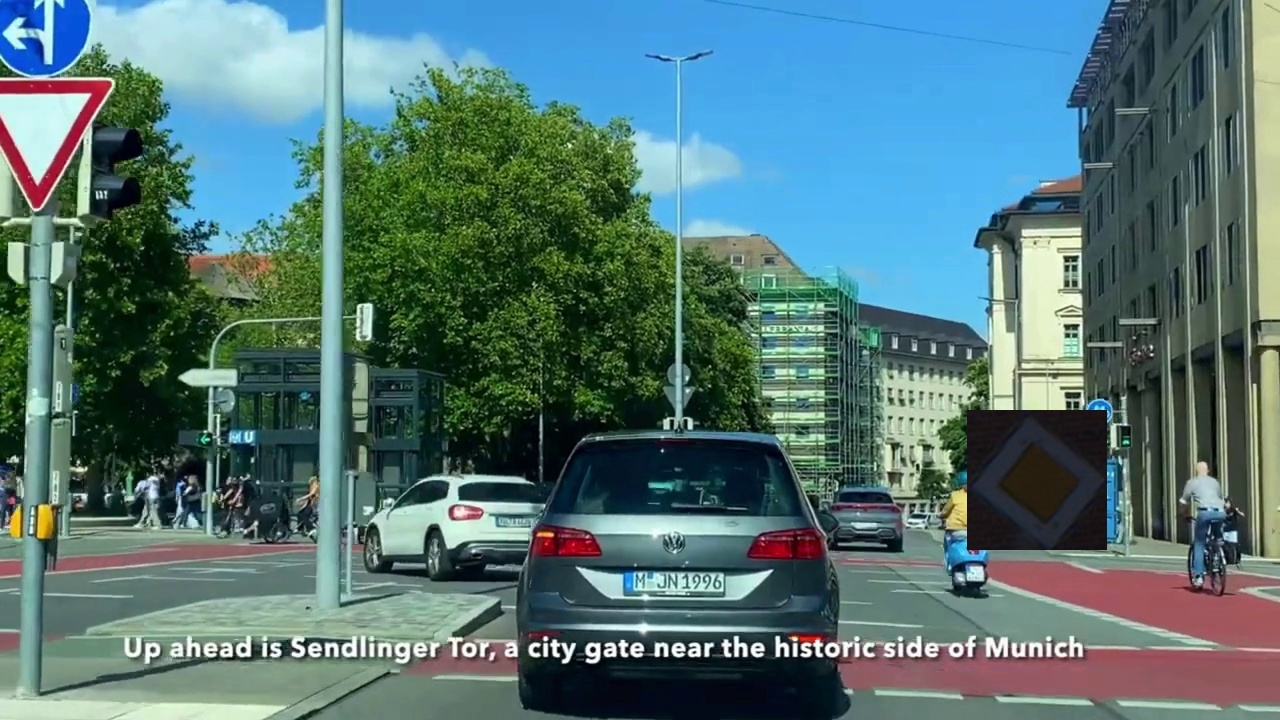Priority road: (967, 410, 1107, 550)
